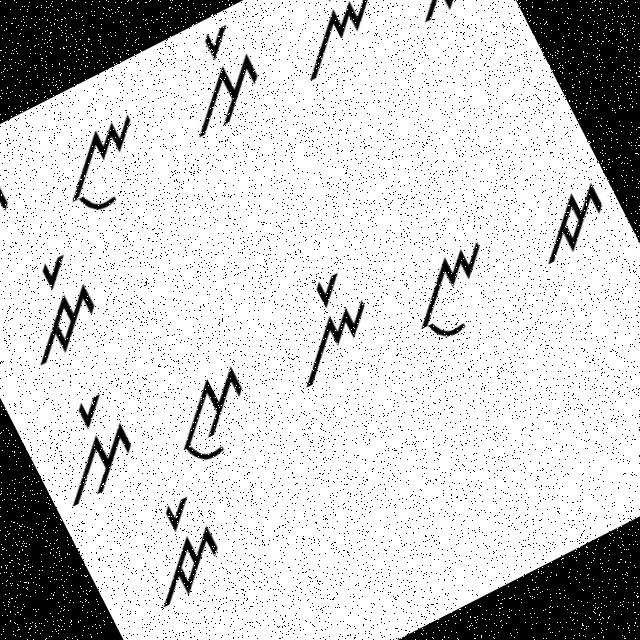ja: (515, 168, 626, 274), (390, 0, 506, 39)
jar: (106, 478, 240, 618), (0, 241, 123, 375)
nyar: (256, 254, 395, 396), (261, 0, 397, 87)
nyaw: (384, 230, 515, 356), (44, 100, 170, 226)
sar: (30, 381, 156, 512), (156, 15, 283, 144)
saw: (154, 353, 272, 472), (0, 169, 41, 296)
